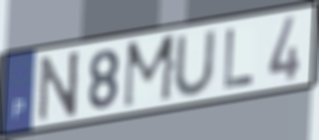4: (266, 12, 303, 85)
8: (88, 48, 121, 110)
L: (221, 26, 257, 92)
M: (120, 31, 180, 112)
N: (37, 48, 82, 125)
U: (172, 27, 218, 98)
